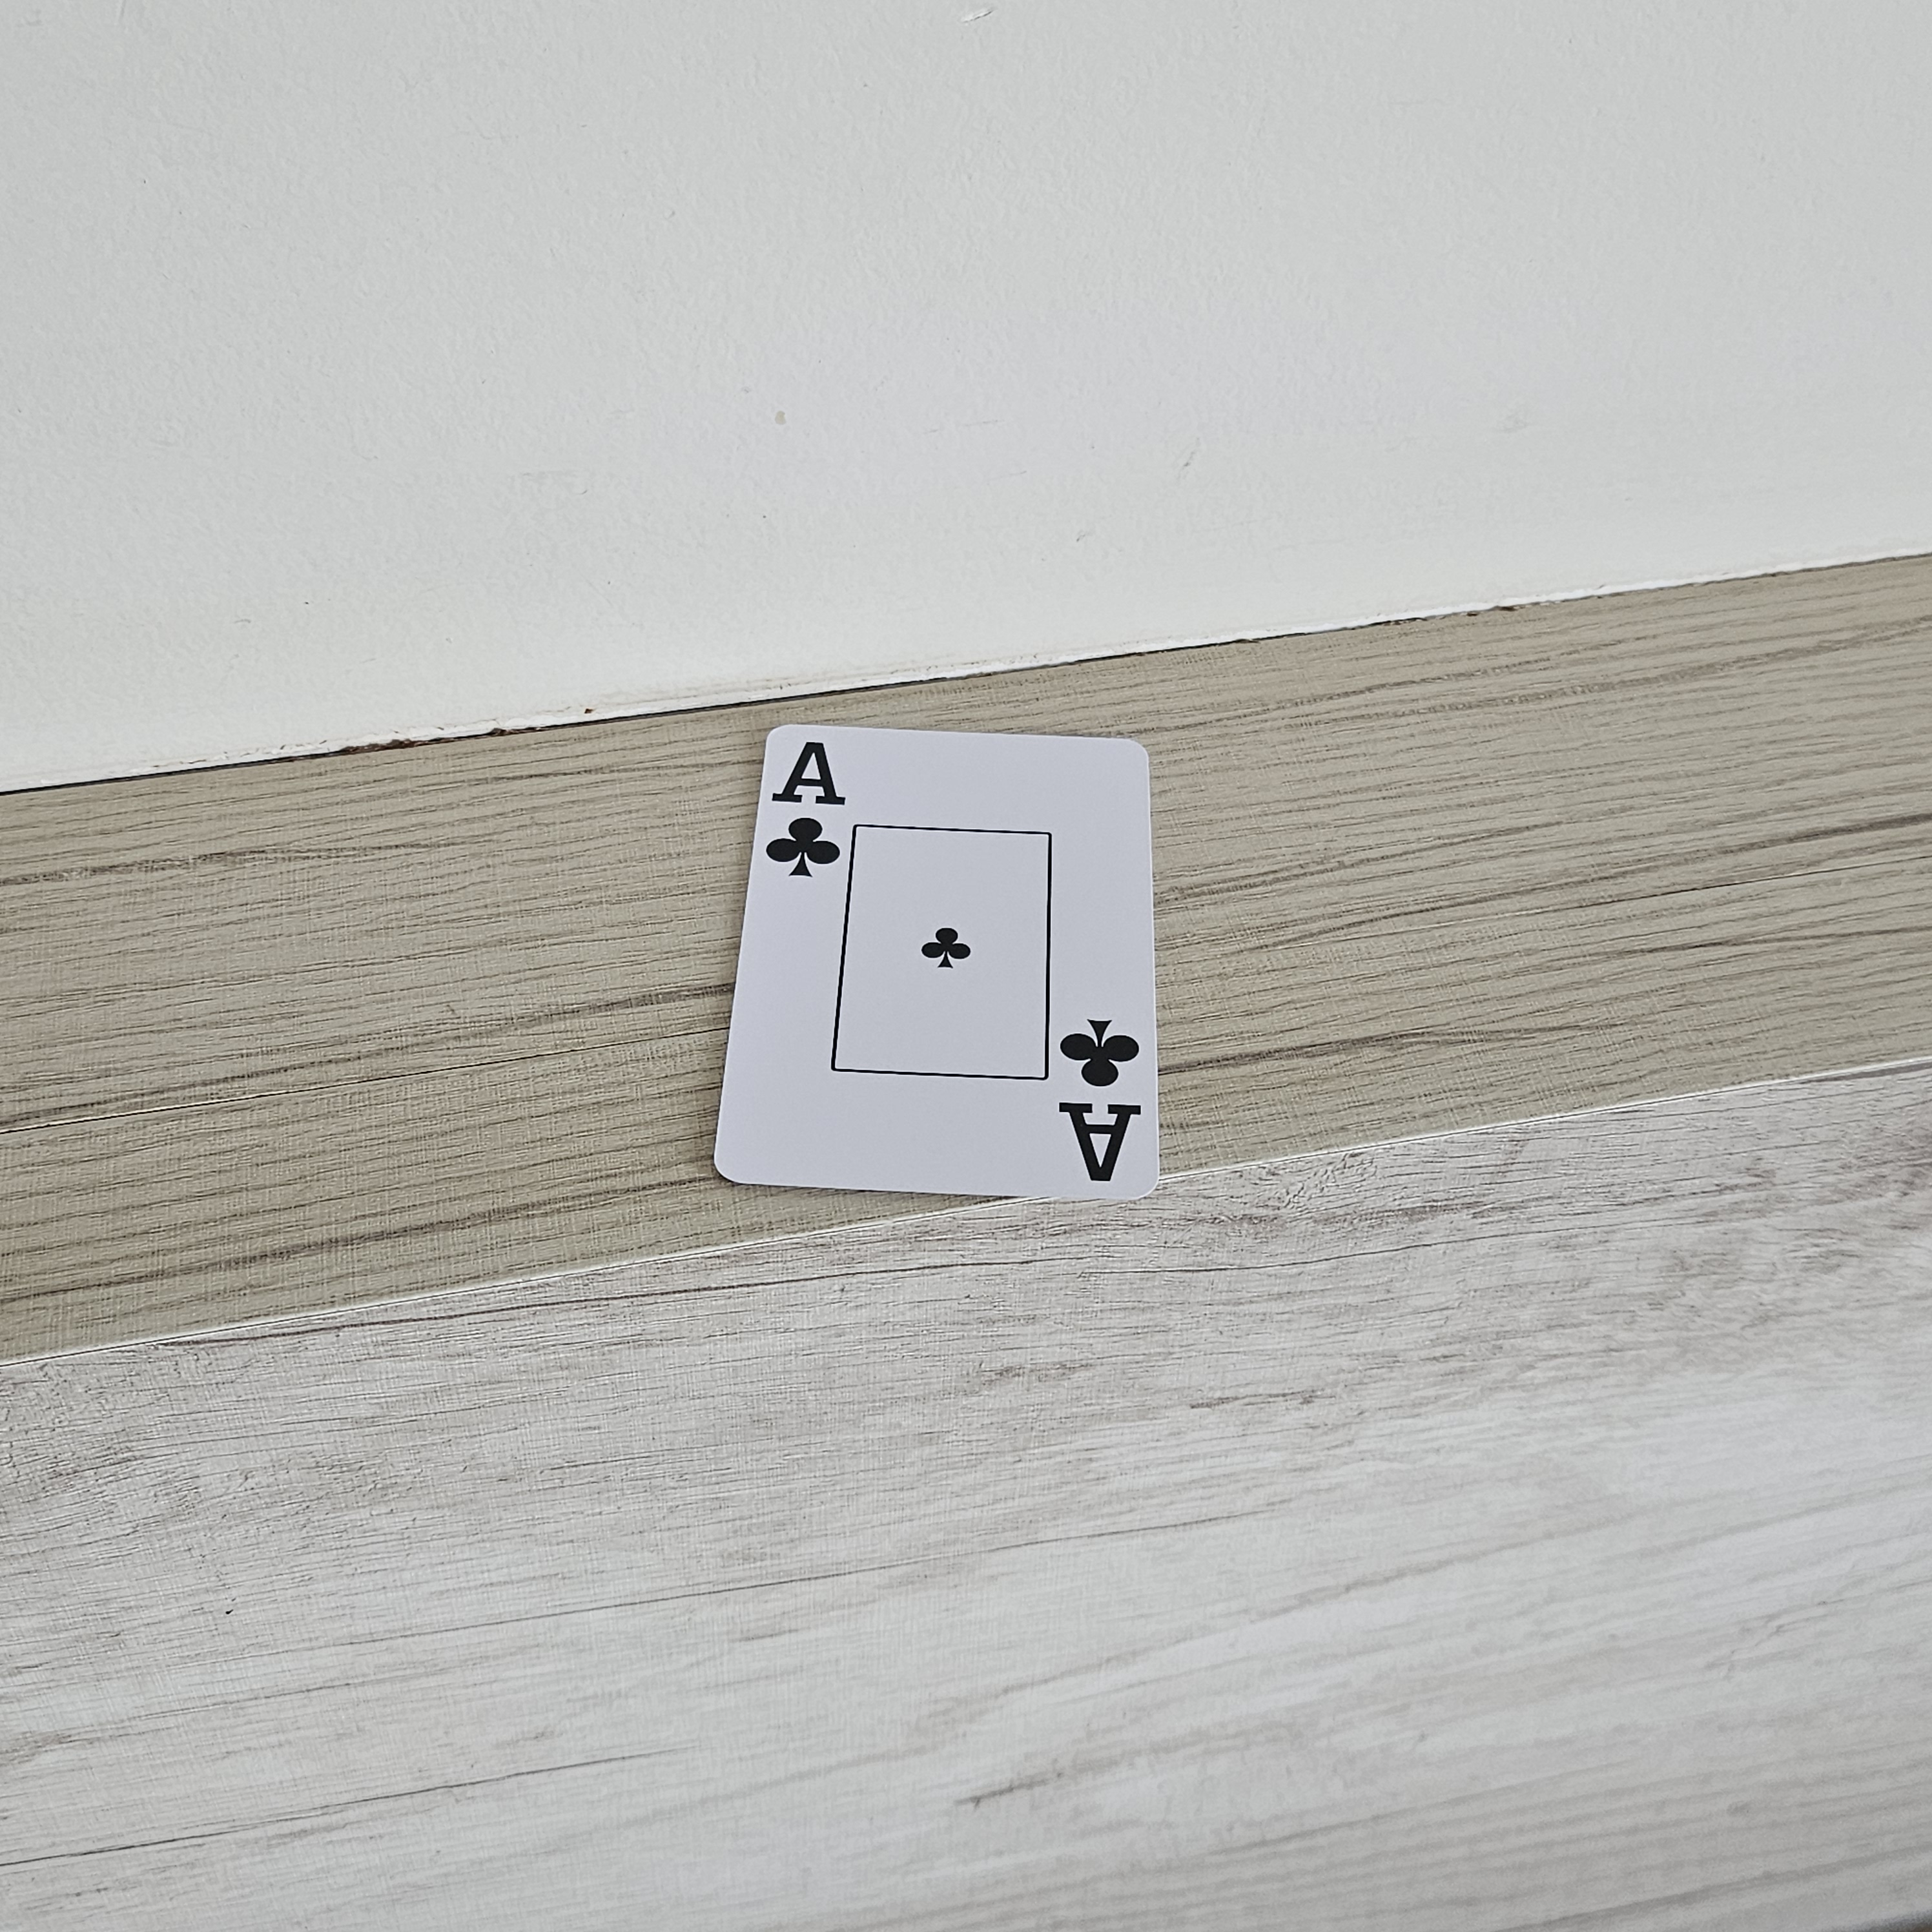AP: (1044, 1005, 1159, 1192), (757, 724, 860, 888)
